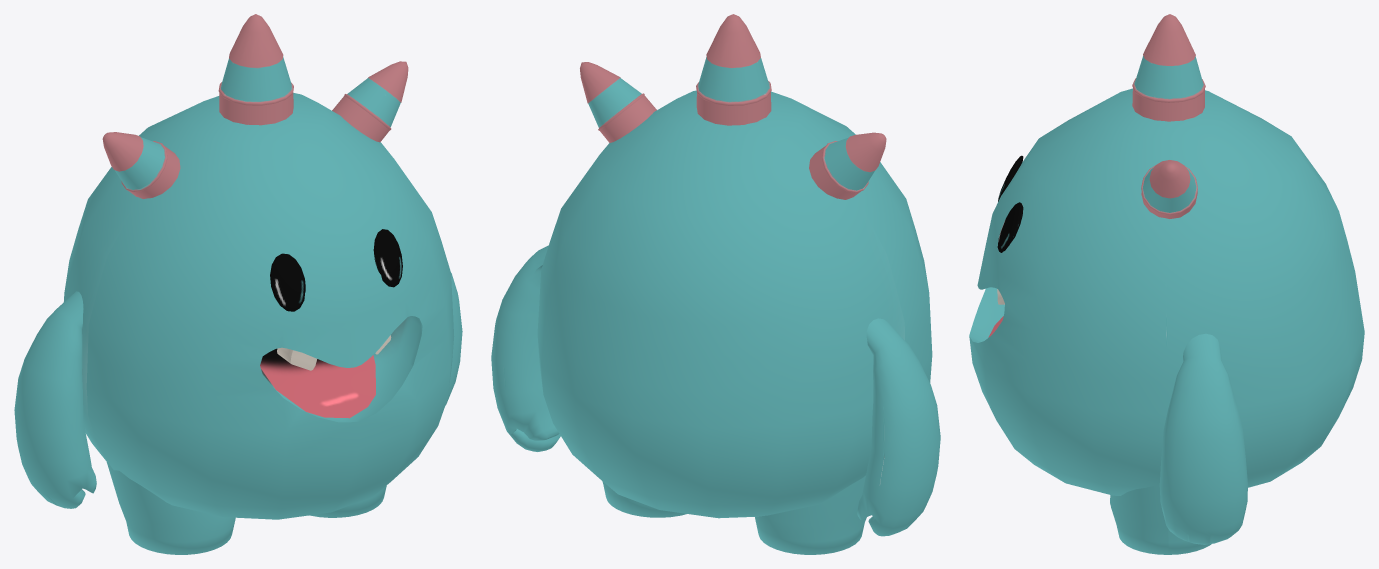
The model's file is mascotmonster.glb.
The picture shows the model from 3 angles, left to right: view 1: azimuth 30°, elevation 25°; view 2: azimuth 150°, elevation 25°; view 3: azimuth 270°, elevation 25°; orthographic projection. The views are drawn at different scales.
Parts seen in each view (by area): view 1: Sphere_2; view 2: Sphere_2; view 3: Sphere_2.
Boxes of the visible parts, x1,y1,x2,y2 form: Sphere_2: [14, 14, 462, 554]; Sphere_2: [491, 14, 940, 554]; Sphere_2: [969, 14, 1364, 554].
Bounding box in the file's own units: 1.22 × 1.35 × 1.
1 material, 1 textured.
